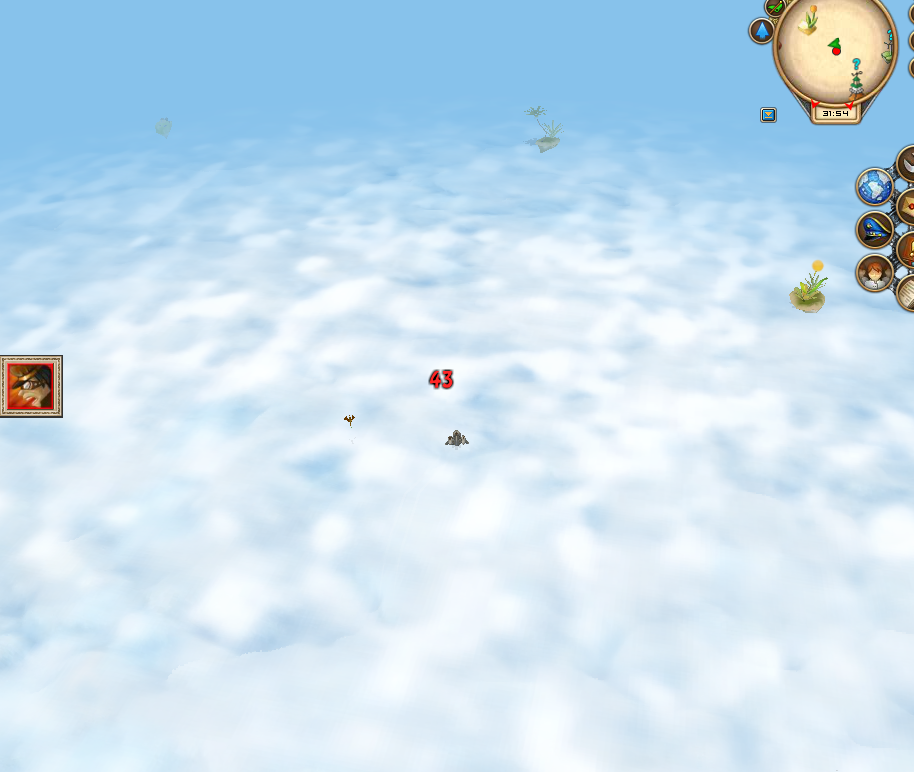palm: (521, 100, 566, 155)
